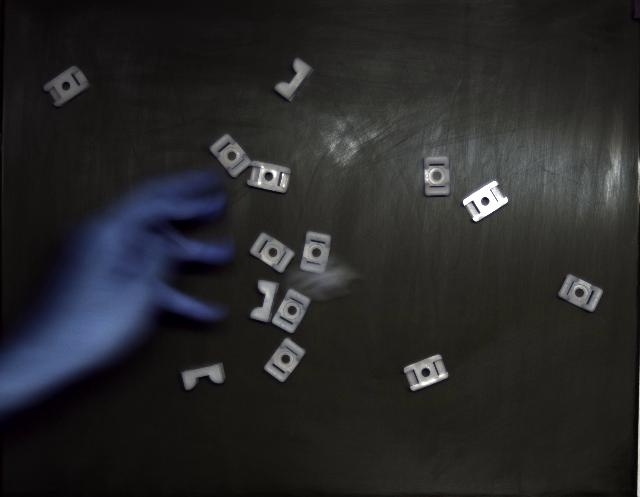first_side: (250, 232, 295, 272), (264, 339, 305, 382), (272, 289, 310, 334), (558, 275, 602, 312), (300, 231, 331, 274), (424, 156, 450, 196)
second_side: (44, 66, 90, 108), (462, 181, 508, 222), (404, 355, 449, 391), (248, 161, 291, 194)
third_side: (274, 58, 312, 101), (250, 280, 279, 322), (181, 364, 225, 391)
